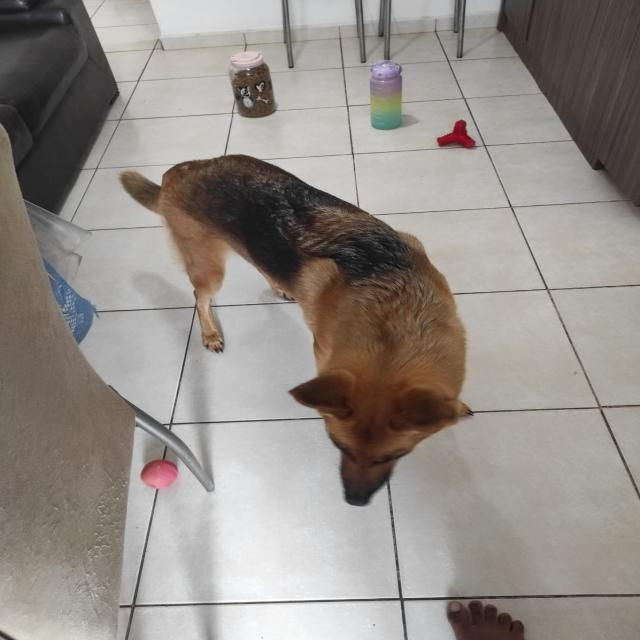bolinha: (130, 456, 182, 490)
brinquedo caro: (425, 115, 484, 155)
cachorro: (111, 150, 482, 503)
garrafinha de agua: (354, 58, 421, 133)
racao: (216, 44, 292, 119)
